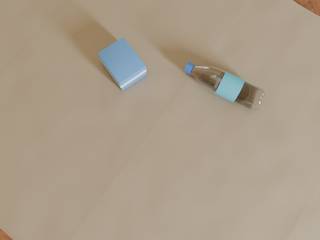bottle: (184, 62, 265, 111)
box: (98, 37, 146, 91)
